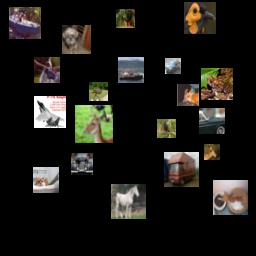airplane: (34, 96, 66, 128)
automobile: (199, 108, 225, 134), (71, 153, 93, 175), (165, 58, 181, 74)
bird: (184, 2, 216, 34), (157, 119, 176, 138), (89, 82, 108, 101)
cat: (213, 180, 248, 215), (33, 167, 59, 193)
deer: (75, 105, 113, 143), (34, 57, 60, 83), (177, 84, 199, 106), (116, 9, 135, 28), (204, 144, 220, 160)
dog: (62, 25, 91, 54)
frog: (201, 68, 233, 100)
ship: (9, 7, 41, 39), (118, 57, 144, 83)
truck: (164, 152, 199, 187)
